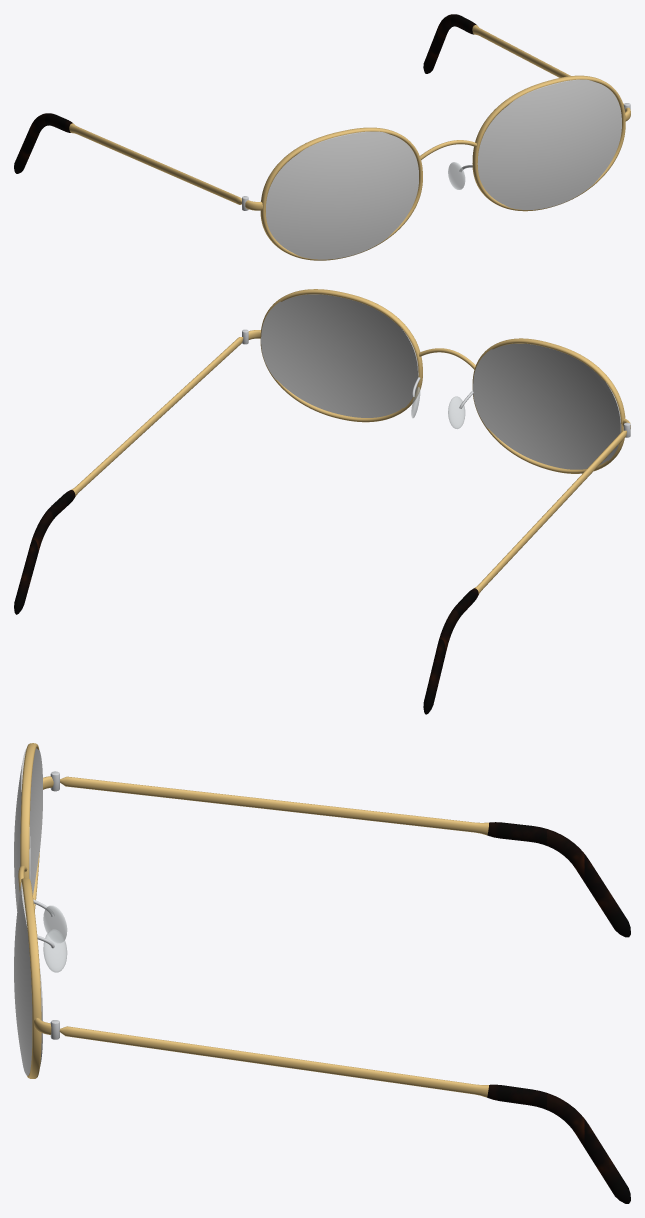
The model's file is ada-l.glb.
The picture shows the model from 3 angles, top to bottom: view 1: azimuth 30°, elevation 25°; view 2: azimuth 150°, elevation 25°; view 3: azimuth 270°, elevation 25°; orthographic projection. The views are drawn at different scales.
Visible parts, largest first — view 1: Lens_R, Lens_L, Front, Temple_R, Temple_L, NosePads; view 2: Lens_L, Lens_R, Front, Temple_L, Temple_R, NosePads; view 3: Temple_L, Temple_R, Front, Lens_L, Lens_R, NosePads.
Boxes of the visible parts, bbox=[...] form: Lens_R: bbox=[266, 131, 418, 259]; Lens_L: bbox=[477, 79, 621, 209]; Front: bbox=[242, 75, 630, 260]; Temple_R: bbox=[14, 113, 241, 204]; Temple_L: bbox=[423, 14, 623, 104]; NosePads: bbox=[448, 162, 465, 189]; Lens_L: bbox=[261, 294, 418, 417]; Lens_R: bbox=[473, 343, 621, 469]; Front: bbox=[242, 289, 630, 473]; Temple_L: bbox=[14, 337, 243, 614]; Temple_R: bbox=[423, 430, 626, 714]; NosePads: bbox=[411, 387, 465, 429]; Temple_L: bbox=[59, 1026, 630, 1203]; Temple_R: bbox=[60, 776, 630, 937]; Front: bbox=[18, 743, 59, 1078]; Lens_L: bbox=[14, 882, 42, 1075]; Lens_R: bbox=[14, 748, 42, 911]; NosePads: bbox=[43, 905, 67, 972].
Bounding box in the file's own units: 0.1469 × 0.0611 × 0.1411.
Materials: 6 (1 with a texture image).
